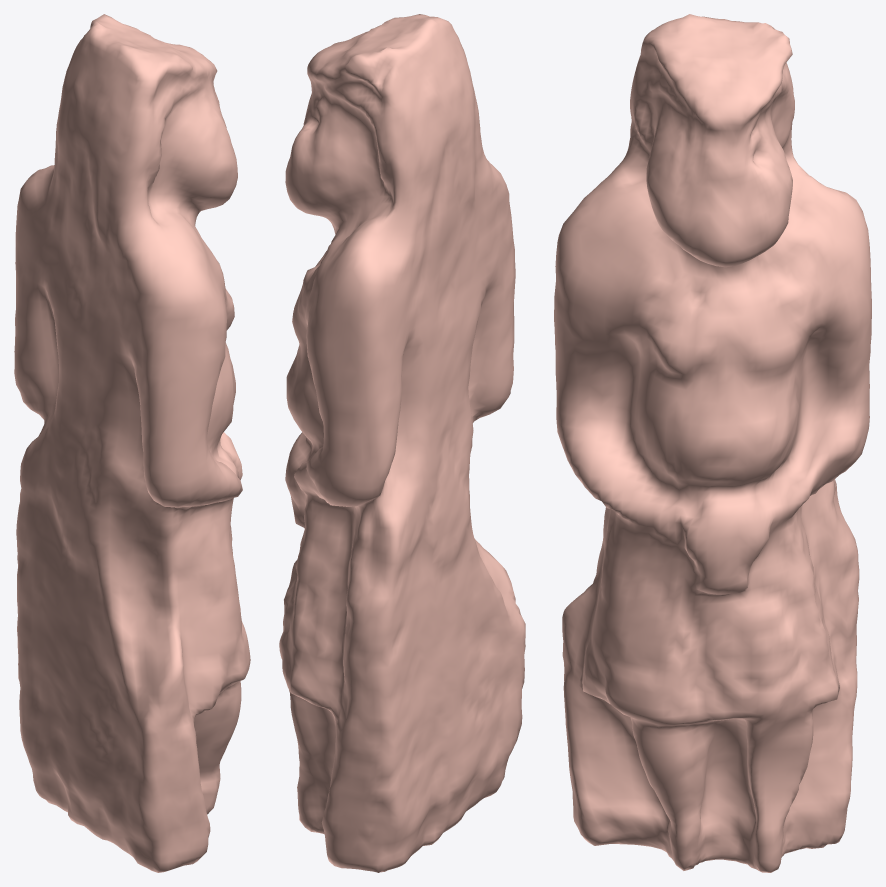
File: idol.obj
3 renders of one model, left to right at view 1: azimuth 30°, elevation 25°; view 2: azimuth 150°, elevation 25°; view 3: azimuth 270°, elevation 25°, orthographic. The views are drawn at different scales.
Visible parts, largest first — view 1: Acient_Statue; view 2: Acient_Statue; view 3: Acient_Statue.
Boxes of the visible parts, bbox=[...] form: Acient_Statue: bbox=[14, 14, 250, 872]; Acient_Statue: bbox=[279, 14, 525, 872]; Acient_Statue: bbox=[554, 14, 871, 872].
Size of the model in its own units: 36.17 by 169 by 59.54.
